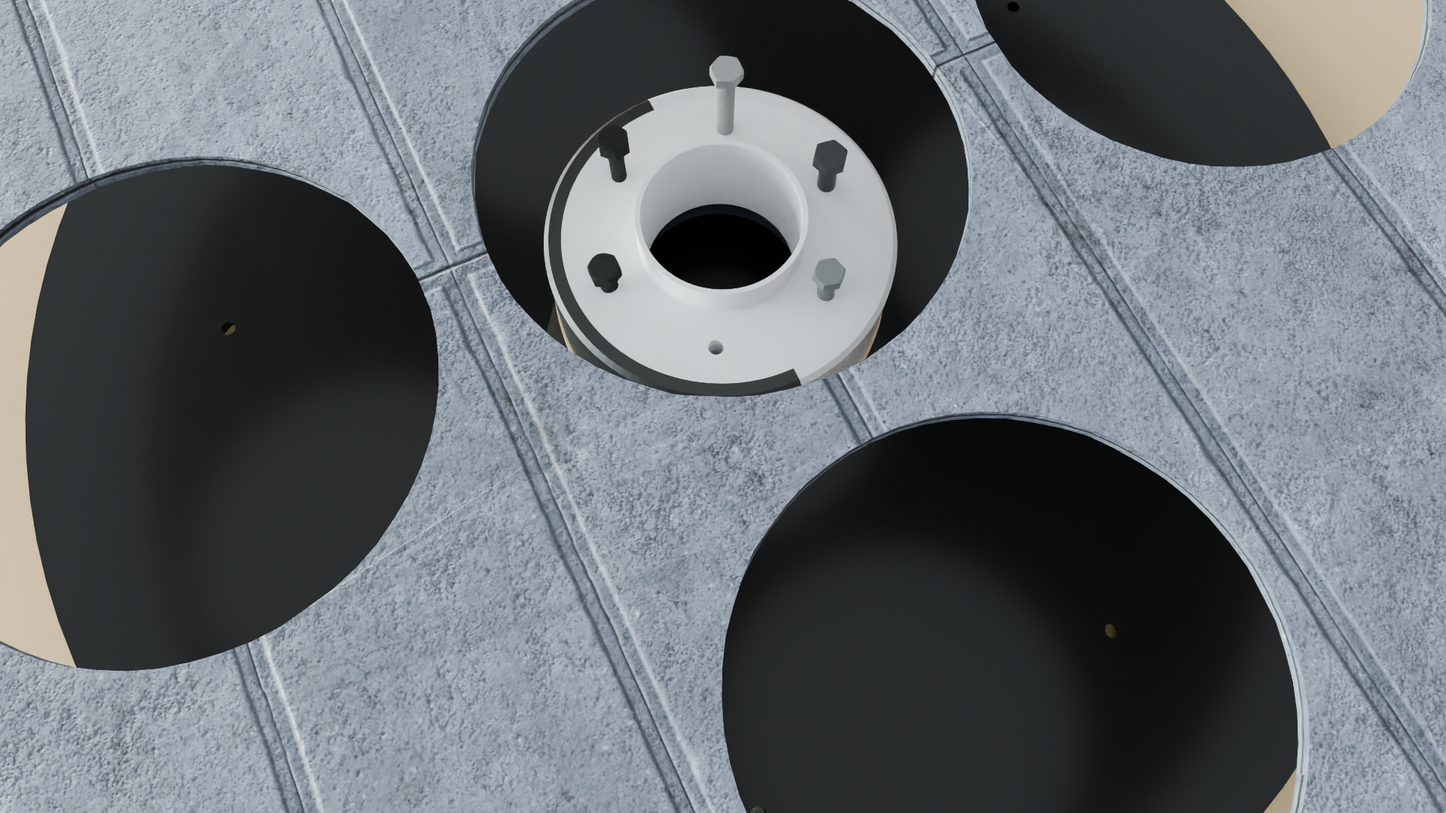bolt: (813, 140, 848, 170), (587, 253, 621, 282), (597, 125, 629, 155), (709, 56, 744, 83), (813, 258, 846, 286)
